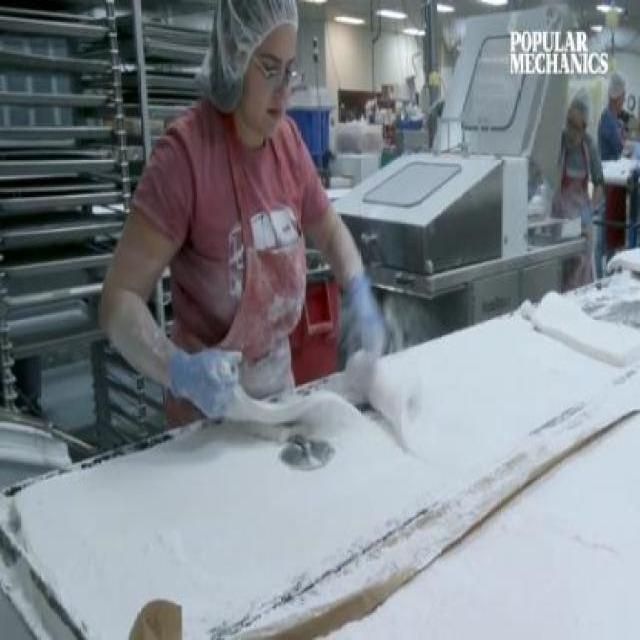hairnet: (210, 2, 298, 49)
